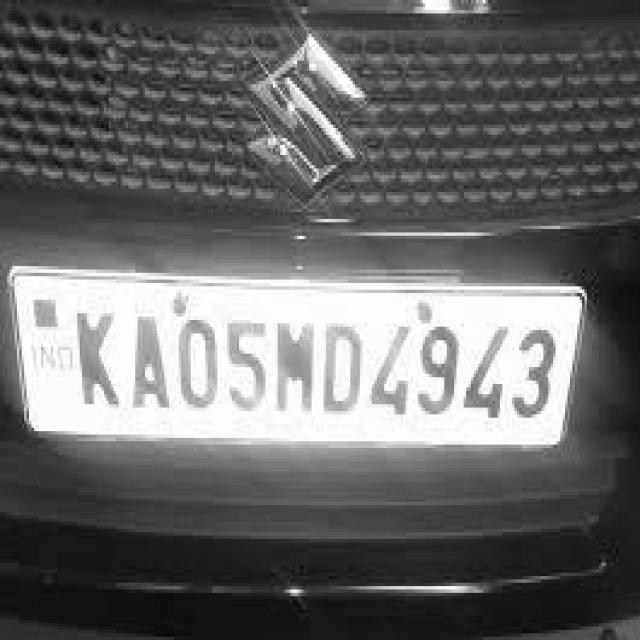license-plate: (9, 270, 584, 444)
